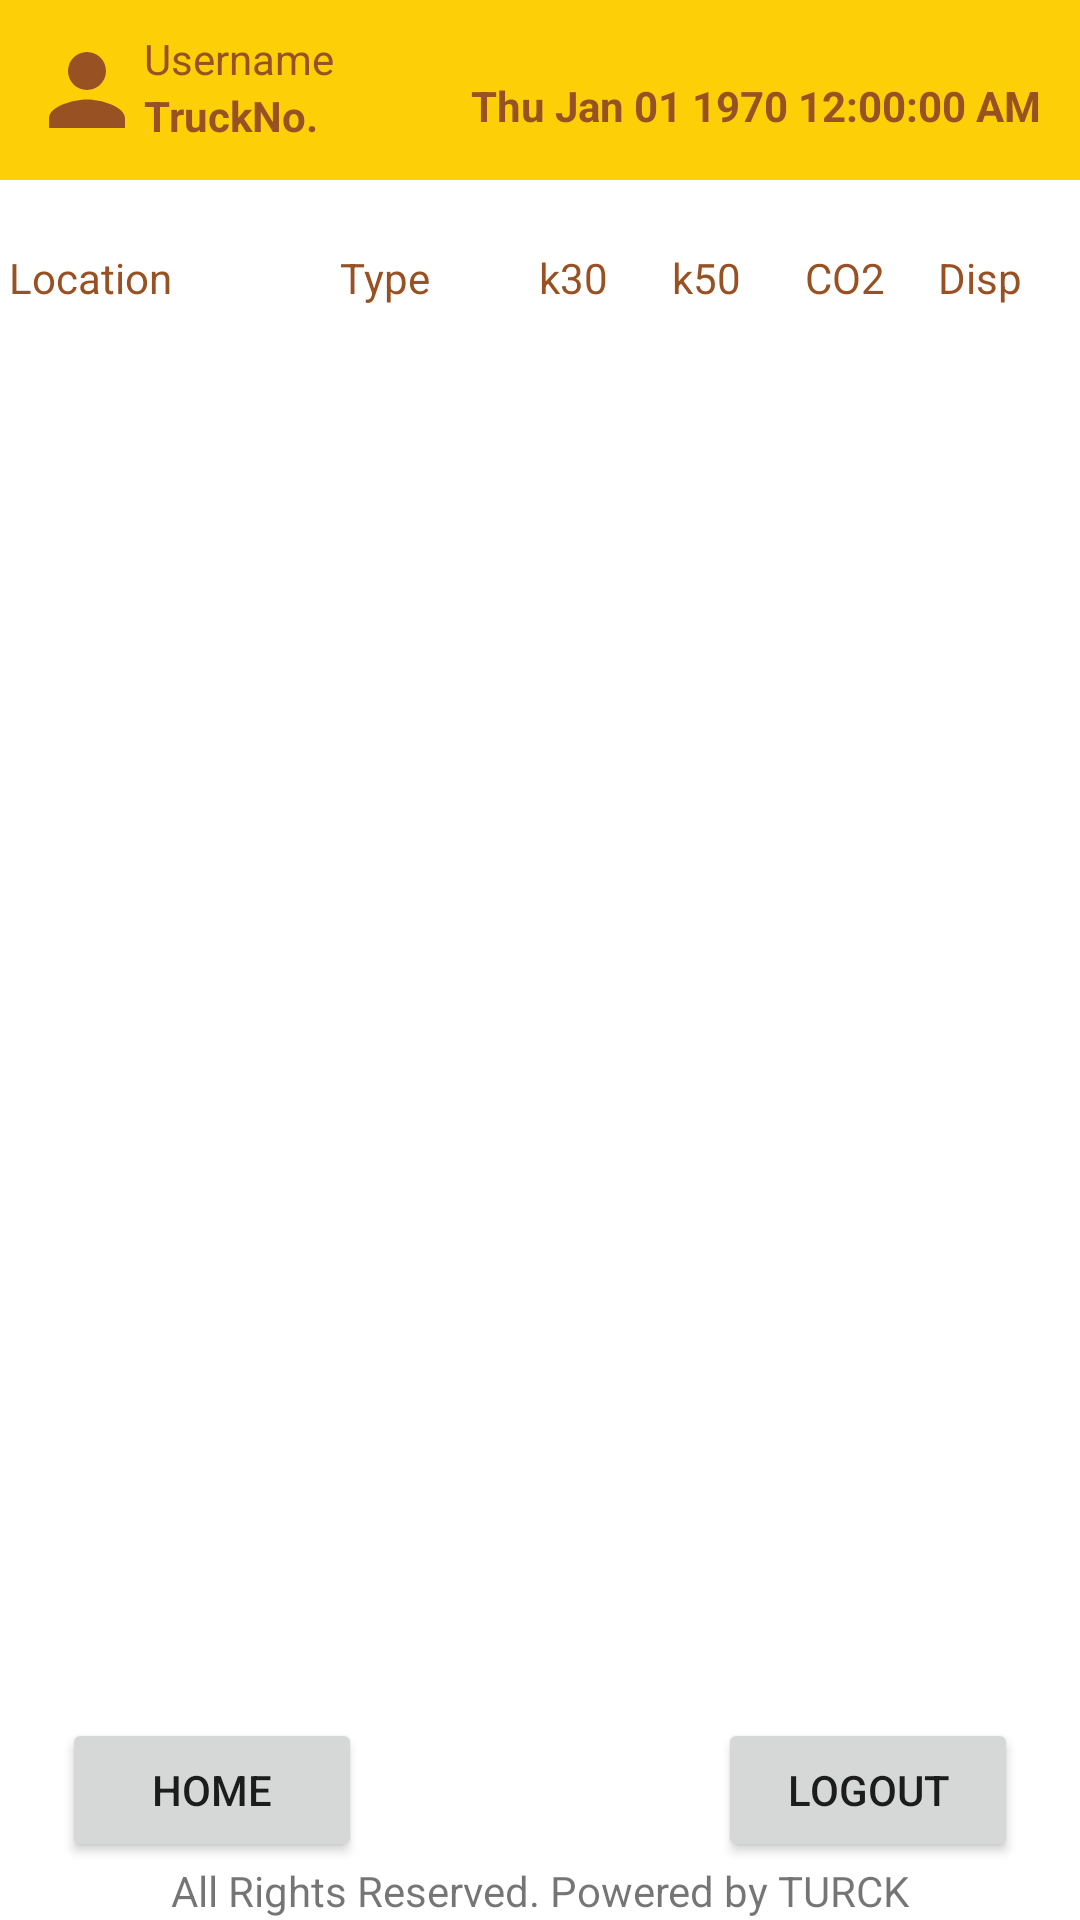

Icon bounding boxes for this 1080px×1920px phone screenshot, format {"left": x1, "top": y1, "right": x2, "bottom": y2}:
person: {"left": 49, "top": 52, "right": 125, "bottom": 128}
